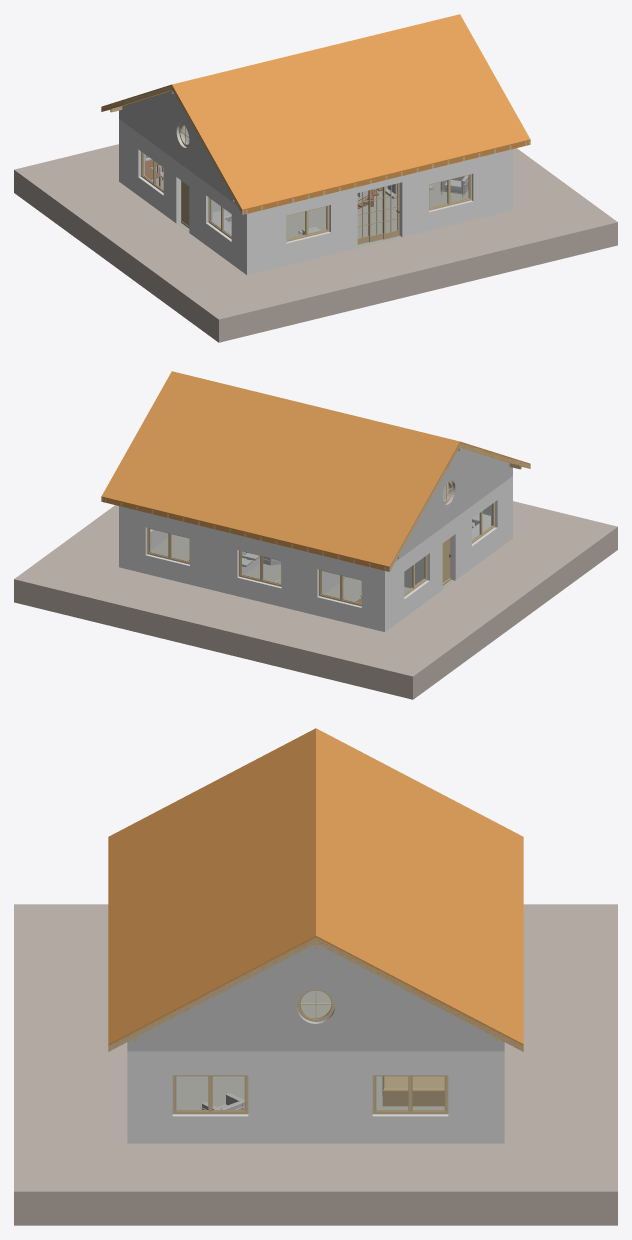
File: testgltf2.gltf
3 views of the same model, one above another, from view 1: azimuth 30°, elevation 25°; view 2: azimuth 150°, elevation 25°; view 3: azimuth 270°, elevation 25° (orthographic). The views are drawn at different scales.
Parts seen in each view (by area): view 1: IfcSite_Gelände_1Qvf0xqDT4HXo8jI81mHB$, IfcSlab_Dach-2_2IxUUNUVPB6Ob$eicCfP2N, IfcWallStandardCase_Wand-Ext-ERDG-4_16DNNqzfP2thtfaOflvsKA, IfcWallStandardCase_Wand-Ext-ERDG-1_3rPX_Juz59peXXY6wDJl18, IfcWallStandardCase_Wand-Ext-OG-1_0knNIAVBPBFvBy_m5QVHsU, IfcSlab_Bodenplatte_1pPHnf7cXCpPsNEnQf8_6B, IfcDoor_Terrassentuer_1M$gxUrX1Fiwe3P64ww7U5; view 2: IfcSite_Gelände_1Qvf0xqDT4HXo8jI81mHB$, IfcSlab_Dach-1_07Enbsqm9C7AQC9iyBwfSD, IfcWallStandardCase_Wand-Ext-ERDG-2_1bzfVsJqn8De5PukCrqylz, IfcWallStandardCase_Wand-Ext-ERDG-1_3rPX_Juz59peXXY6wDJl18, IfcWallStandardCase_Wand-Ext-OG-1_0knNIAVBPBFvBy_m5QVHsU, IfcSlab_Bodenplatte_1pPHnf7cXCpPsNEnQf8_6B; view 3: IfcSite_Gelände_1Qvf0xqDT4HXo8jI81mHB$, IfcSlab_Dach-1_07Enbsqm9C7AQC9iyBwfSD, IfcSlab_Dach-2_2IxUUNUVPB6Ob$eicCfP2N, IfcWallStandardCase_Wand-Ext-ERDG-3_25fsbPyk15VvuXI$yNKenK, IfcWallStandardCase_Wand-Ext-OG-3_3VCarUKgH1buLo22Ozxe6J, IfcSlab_Bodenplatte_1pPHnf7cXCpPsNEnQf8_6B, IfcFurnishingElement_Doppelbett_3CF666a3P6svf9FiTvqQHX, IfcMappedItem_node_53, IfcMappedItem_node_28, IfcMappedItem_node_2, IfcMappedItem_node_3, IfcSlab_Slab-033_2RGlQk4xH47RHK93zcTzUL.
Part boxes in pixels (x1=…): IfcSite_Gelände_1Qvf0xqDT4HXo8jI81mHB$: x1=14, y1=144, x2=617, y2=342; IfcSlab_Dach-2_2IxUUNUVPB6Ob$eicCfP2N: x1=172, y1=14, x2=530, y2=214; IfcWallStandardCase_Wand-Ext-ERDG-4_16DNNqzfP2thtfaOflvsKA: x1=247, y1=149, x2=512, y2=274; IfcWallStandardCase_Wand-Ext-ERDG-1_3rPX_Juz59peXXY6wDJl18: x1=119, y1=119, x2=246, y2=274; IfcWallStandardCase_Wand-Ext-OG-1_0knNIAVBPBFvBy_m5QVHsU: x1=119, y1=91, x2=236, y2=204; IfcSlab_Bodenplatte_1pPHnf7cXCpPsNEnQf8_6B: x1=151, y1=177, x2=468, y2=247; IfcDoor_Terrassentuer_1M$gxUrX1Fiwe3P64ww7U5: x1=357, y1=183, x2=399, y2=244; IfcSite_Gelände_1Qvf0xqDT4HXo8jI81mHB$: x1=14, y1=501, x2=617, y2=699; IfcSlab_Dach-1_07Enbsqm9C7AQC9iyBwfSD: x1=101, y1=371, x2=459, y2=571; IfcWallStandardCase_Wand-Ext-ERDG-2_1bzfVsJqn8De5PukCrqylz: x1=119, y1=506, x2=384, y2=631; IfcWallStandardCase_Wand-Ext-ERDG-1_3rPX_Juz59peXXY6wDJl18: x1=385, y1=476, x2=512, y2=631; IfcWallStandardCase_Wand-Ext-OG-1_0knNIAVBPBFvBy_m5QVHsU: x1=395, y1=448, x2=512, y2=561; IfcSlab_Bodenplatte_1pPHnf7cXCpPsNEnQf8_6B: x1=150, y1=534, x2=454, y2=601; IfcSite_Gelände_1Qvf0xqDT4HXo8jI81mHB$: x1=14, y1=904, x2=617, y2=1225; IfcSlab_Dach-1_07Enbsqm9C7AQC9iyBwfSD: x1=316, y1=728, x2=523, y2=1051; IfcSlab_Dach-2_2IxUUNUVPB6Ob$eicCfP2N: x1=108, y1=728, x2=315, y2=1049; IfcWallStandardCase_Wand-Ext-ERDG-3_25fsbPyk15VvuXI$yNKenK: x1=127, y1=1051, x2=504, y2=1143; IfcWallStandardCase_Wand-Ext-OG-3_3VCarUKgH1buLo22Ozxe6J: x1=127, y1=944, x2=504, y2=1051; IfcSlab_Bodenplatte_1pPHnf7cXCpPsNEnQf8_6B: x1=176, y1=1076, x2=444, y2=1109; IfcFurnishingElement_Doppelbett_3CF666a3P6svf9FiTvqQHX: x1=382, y1=1076, x2=444, y2=1106; IfcMappedItem_node_53: x1=108, y1=937, x2=315, y2=1051; IfcMappedItem_node_28: x1=316, y1=937, x2=523, y2=1051; IfcMappedItem_node_2: x1=372, y1=1075, x2=448, y2=1114; IfcMappedItem_node_3: x1=172, y1=1075, x2=248, y2=1114; IfcSlab_Slab-033_2RGlQk4xH47RHK93zcTzUL: x1=300, y1=990, x2=331, y2=1017.
Size of the model in its own units: 18 by 7.32 by 16.
